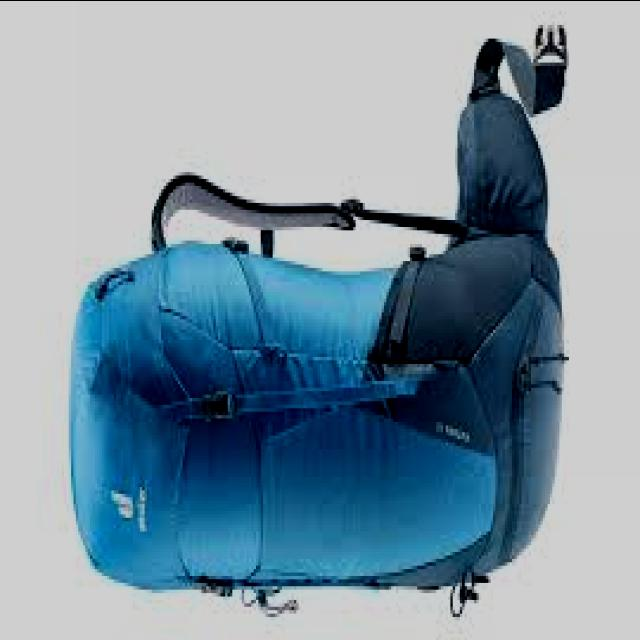backpack: (68, 25, 568, 621)
